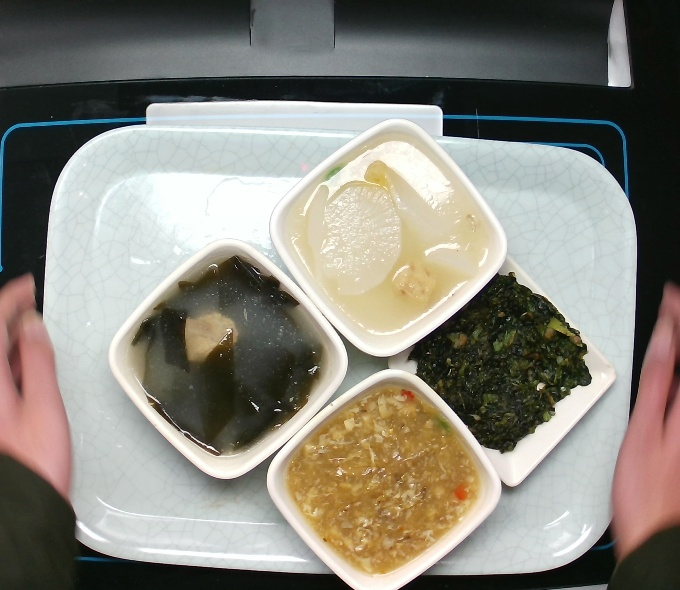wcq-HaiDaiPaiGuTang: (123, 254, 332, 465)
wcq-LuoBoYouPaoTang: (291, 131, 491, 336)
wcq-QinCaiBing: (406, 271, 595, 450)
wcq-SuanLaGeng: (289, 380, 485, 572)
